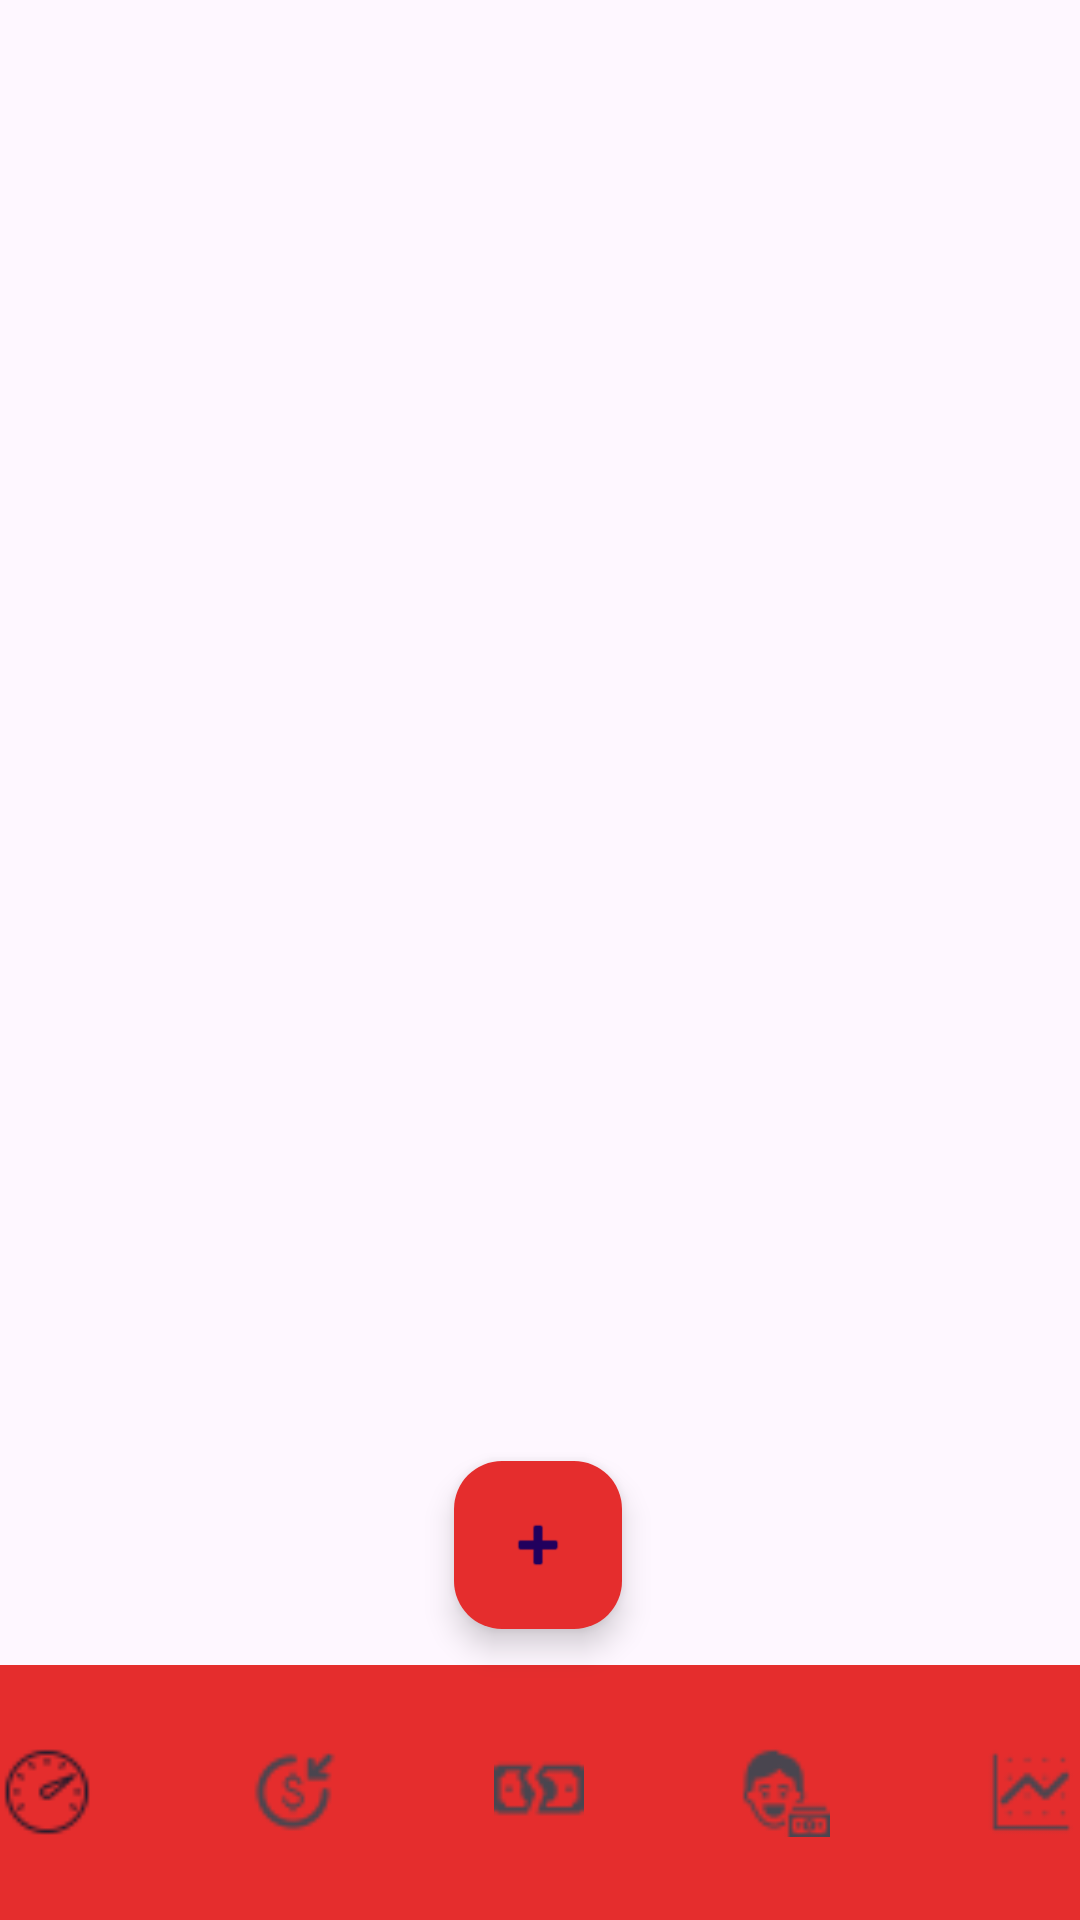

Icon click points for this 1080×1920 phone screenshot, format (x=x, y=y):
add: (x=538, y=1545)
